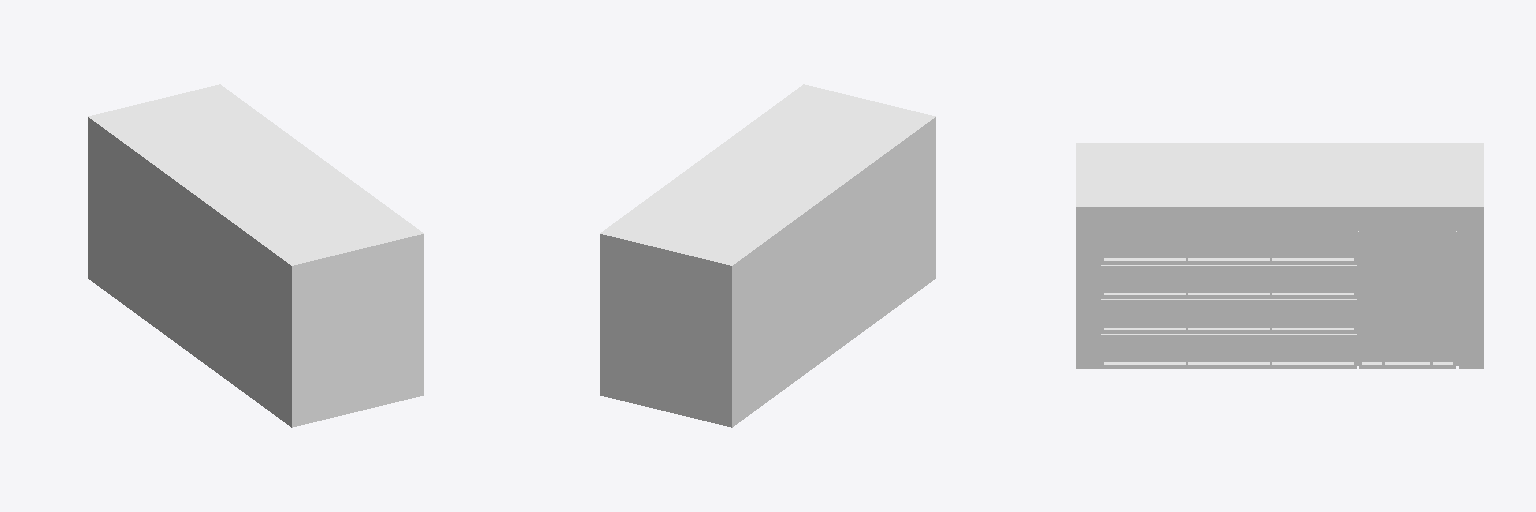
The model's file is comoCiliegio.obj.
The picture shows the model from 3 angles: view 1: azimuth 30°, elevation 25°; view 2: azimuth 150°, elevation 25°; view 3: azimuth 270°, elevation 25°; orthographic projection.
Parts seen in each view (by area): view 1: Line41_1, Box64_12; view 2: Line41_1, Box64_12; view 3: Line41_1, Box63_10, Box59_3, Box60_5, Box61_7, Box62_9, Line44_6, Line45_8, Line42_2, Line43_4, Line46_11.
Boxes of the visible parts, <box> form: Line41_1: <box>88,84,423,427</box>; Box64_12: <box>100,149,278,417</box>; Line41_1: <box>600,84,935,427</box>; Box64_12: <box>745,149,923,417</box>; Line41_1: <box>1076,143,1483,368</box>; Box63_10: <box>1358,231,1456,363</box>; Box59_3: <box>1104,235,1353,257</box>; Box60_5: <box>1104,270,1353,292</box>; Box61_7: <box>1104,305,1353,327</box>; Box62_9: <box>1104,339,1353,361</box>; Line44_6: <box>1101,299,1356,333</box>; Line45_8: <box>1101,334,1356,368</box>; Line42_2: <box>1101,231,1356,264</box>; Line43_4: <box>1101,265,1356,298</box>; Line46_11: <box>1359,231,1455,368</box>.
Bounding box in the file's own units: 60 × 70 × 160.